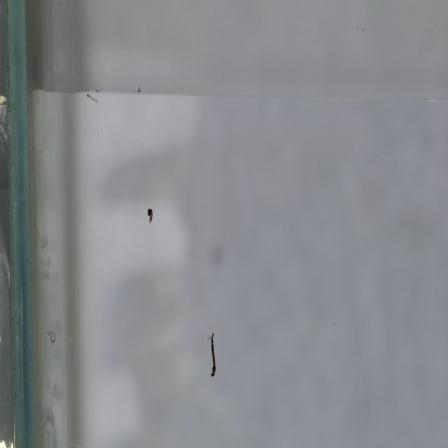Jentik-Nyamuk: (204, 328, 220, 381), (143, 204, 156, 224)
